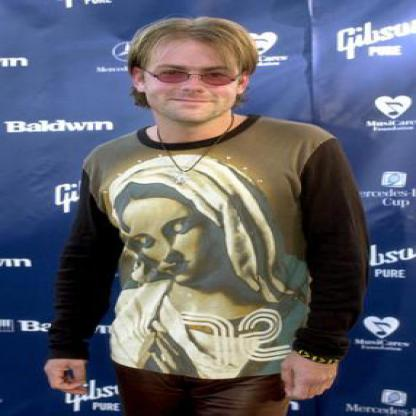face: (143, 24, 246, 124)
